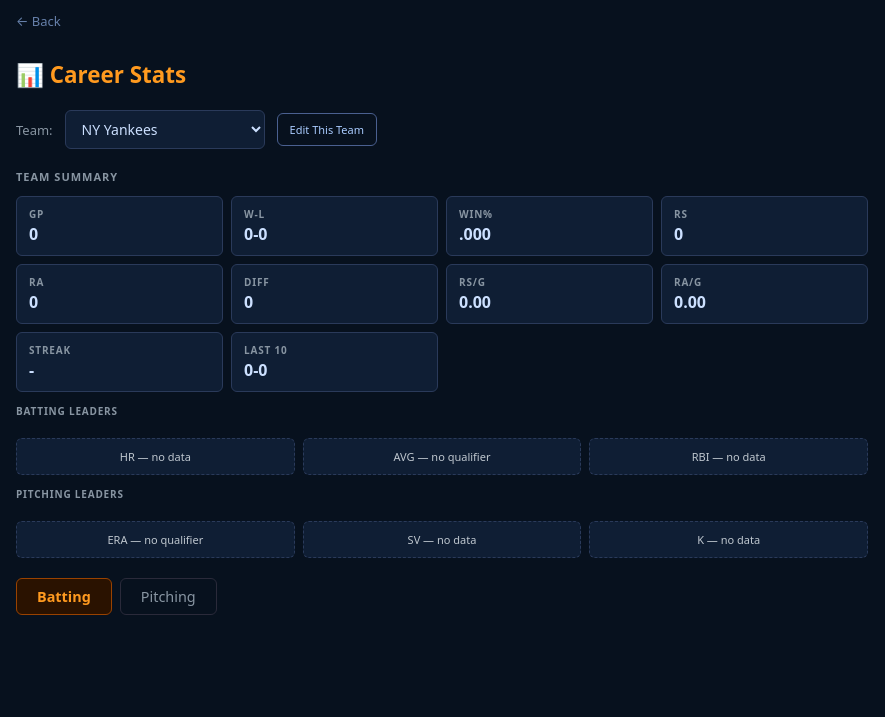
Test case: CareerStatsPage › renders — with 0 IP pitcher row — WHIP and ERA display as '—'
Step 1. Click the button with test id "career-stats-pitching-tab" → (168,596), box [120,578,217,615]
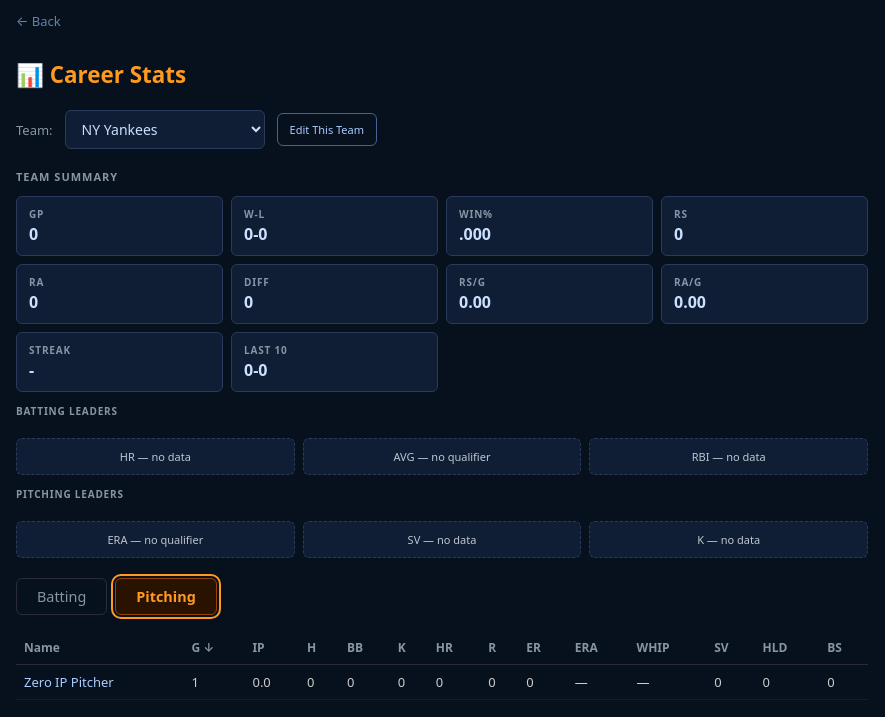
Expected: the button "Zero IP Pitcher" is shown, [24,673,114,691]
